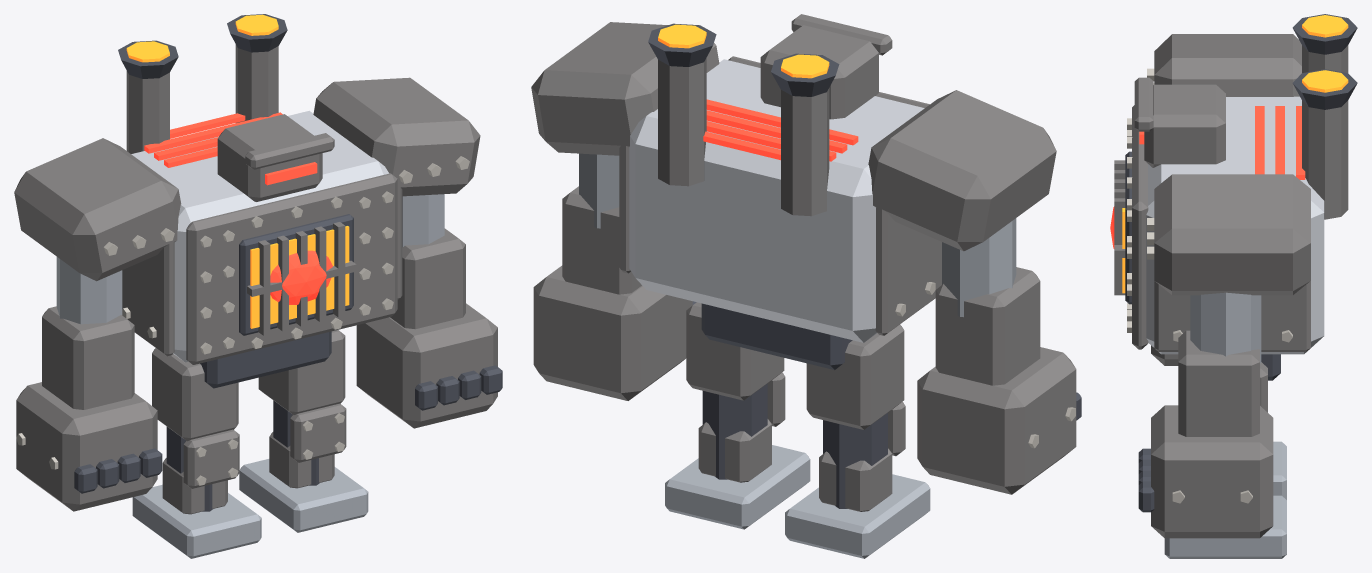
File: iron_colossus.glb
The picture shows the model from 3 angles, left to right: view 1: azimuth 30°, elevation 25°; view 2: azimuth 150°, elevation 25°; view 3: azimuth 270°, elevation 25°; orthographic projection. The views are drawn at different scales.
Parts seen in each view (by area): view 1: Cube.010, Cube.019, Cube.026, Fist, Fist.001, Cube.009, Cube.020, Cube.027, Cube.005, Cube.002, Cube.006, Cube.032 (+32 smaller); view 2: Cube.009, Cube.019, Fist, Fist.001, Cube.026, Cube.020, Cube.005, Cube.002, Cube.006, Cube.018, Cylinder.044, Cylinder.057 (+22 smaller); view 3: Cube.026, Fist.001, Cube.009, Cube.019, Cube.027, Cube.032, Cube.025, Cylinder.057, Cylinder.054, Cube.010, Cube.002, Cone (+14 smaller).
Part boxes in pixels (x1=…): Cube.010: x1=186, y1=173, x2=397, y2=364; Cube.019: x1=14, y1=138, x2=181, y2=281; Cube.026: x1=313, y1=77, x2=480, y2=196; Fist: x1=16, y1=382, x2=157, y2=511; Fist.001: x1=356, y1=303, x2=497, y2=428; Cube.009: x1=131, y1=110, x2=389, y2=362; Cube.020: x1=42, y1=306, x2=134, y2=409; Cube.027: x1=390, y1=228, x2=465, y2=329; Cube.005: x1=152, y1=348, x2=238, y2=441; Cube.002: x1=239, y1=459, x2=368, y2=532; Cube.006: x1=132, y1=484, x2=261, y2=558; Cube.032: x1=217, y1=114, x2=322, y2=201; Cube.009: x1=629, y1=59, x2=924, y2=342; Cube.019: x1=868, y1=90, x2=1056, y2=251; Fist: x1=917, y1=347, x2=1076, y2=494; Fist.001: x1=533, y1=265, x2=692, y2=400; Cube.026: x1=531, y1=22, x2=719, y2=155; Cube.020: x1=935, y1=267, x2=1040, y2=385; Cube.005: x1=806, y1=324, x2=904, y2=429; Cube.002: x1=665, y1=445, x2=810, y2=529; Cube.006: x1=785, y1=474, x2=930, y2=558; Cube.018: x1=875, y1=193, x2=941, y2=335; Cylinder.044: x1=781, y1=88, x2=829, y2=216; Cylinder.057: x1=658, y1=58, x2=706, y2=186; Cube.026: x1=1154, y1=174, x2=1310, y2=295; Fist.001: x1=1151, y1=405, x2=1273, y2=538; Cube.009: x1=1146, y1=96, x2=1324, y2=354; Cube.019: x1=1154, y1=34, x2=1301, y2=96; Cube.027: x1=1178, y1=330, x2=1259, y2=436; Cube.032: x1=1144, y1=84, x2=1225, y2=167; Cube.025: x1=1154, y1=281, x2=1310, y2=351; Cylinder.057: x1=1302, y1=100, x2=1348, y2=219; Cylinder.054: x1=1190, y1=292, x2=1261, y2=363; Cube.010: x1=1132, y1=105, x2=1148, y2=349; Cube.002: x1=1164, y1=495, x2=1286, y2=558; Cone: x1=1292, y1=14, x2=1357, y2=54.
Bounding box in the file's own units: 3.9 × 3.76 × 1.82.
